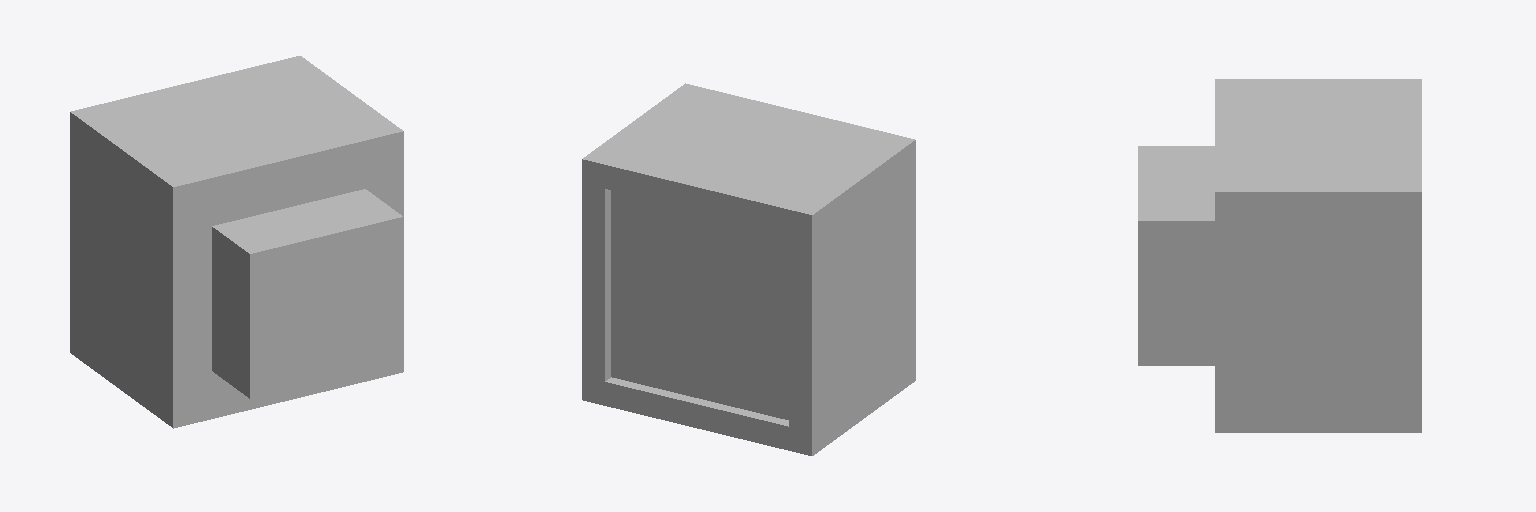
The picture shows the model from 3 angles: view 1: azimuth 30°, elevation 25°; view 2: azimuth 150°, elevation 25°; view 3: azimuth 270°, elevation 25°; orthographic projection.
Parts seen in each view (by area): view 1: Cube_Cube.001; view 2: Cube_Cube.001; view 3: Cube_Cube.001.
Part boxes in pixels (x1,y1,x2,y2): Cube_Cube.001: (70,56,403,428); Cube_Cube.001: (582,83,915,455); Cube_Cube.001: (1138,79,1421,432).
Bounding box in the file's own units: 0.9 × 0.9 × 0.9581.